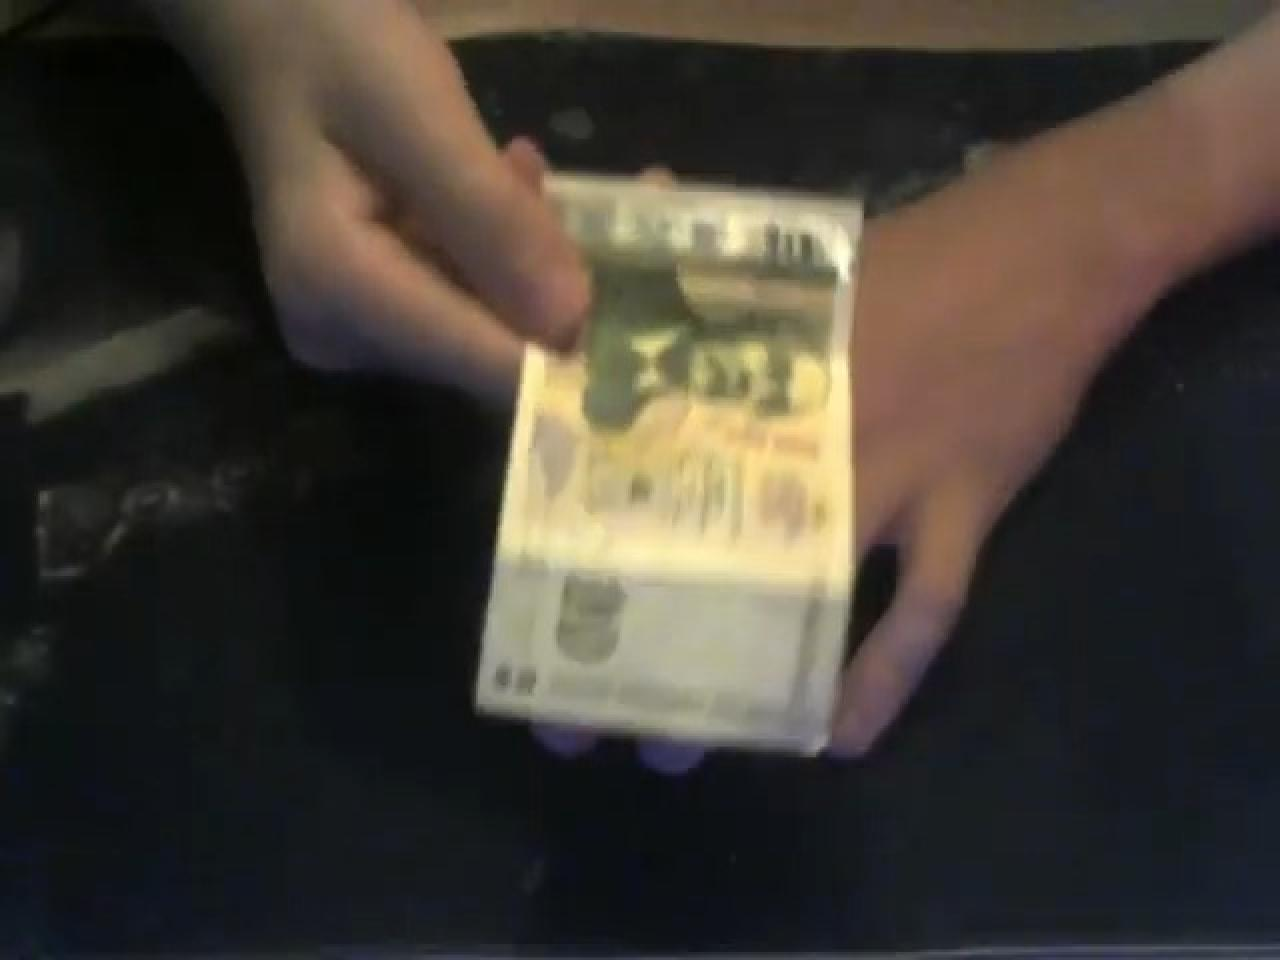10leva: (468, 165, 866, 757)
